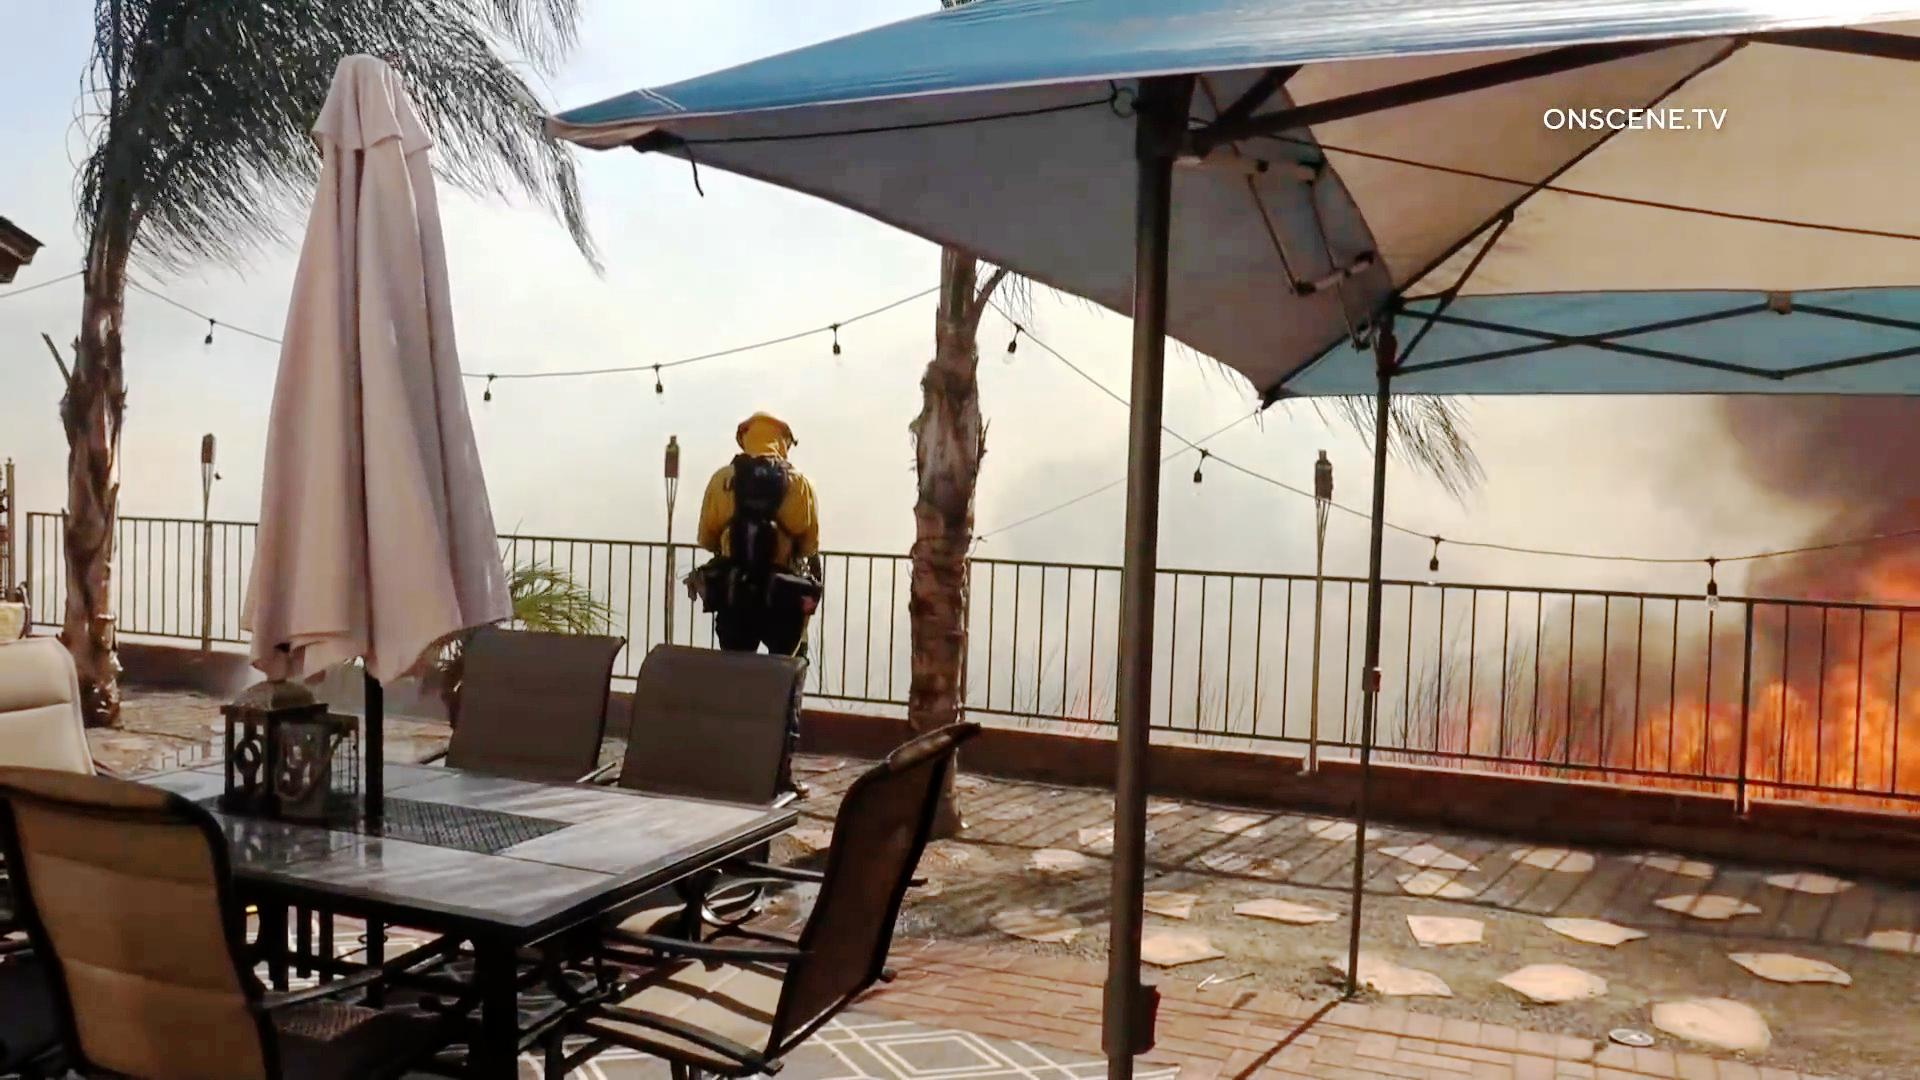fire: (1651, 647, 1920, 796)
smoke: (1702, 406, 1920, 568)
